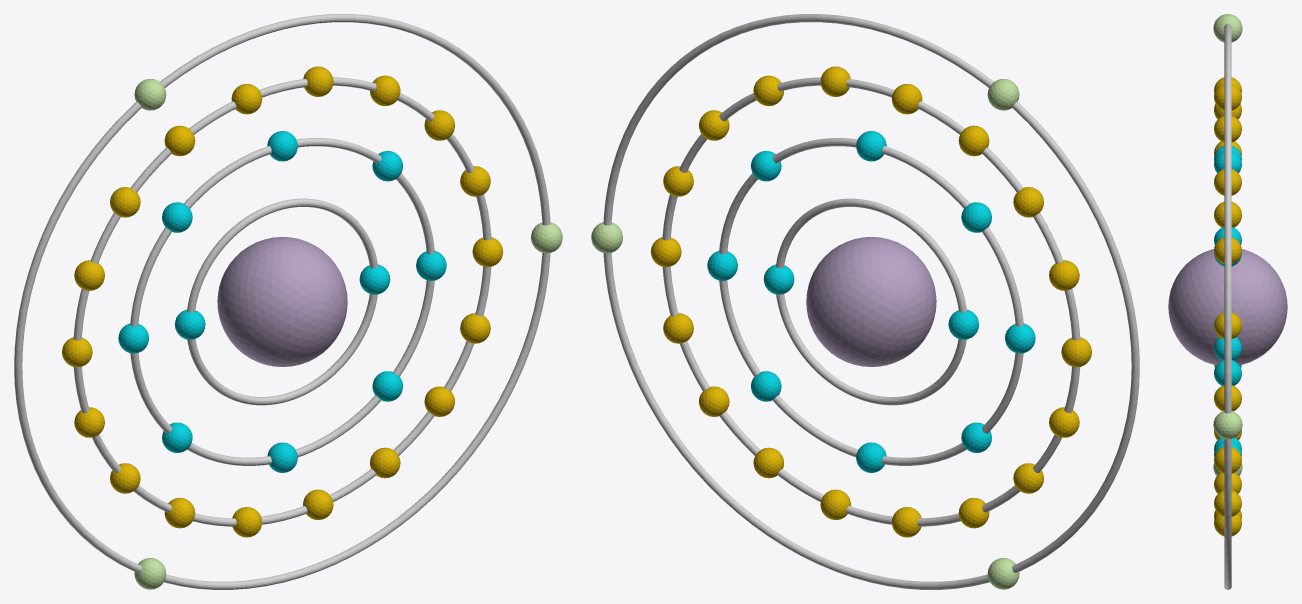
The picture shows the model from 3 angles, left to right: view 1: azimuth 30°, elevation 25°; view 2: azimuth 150°, elevation 25°; view 3: azimuth 270°, elevation 25°; orthographic projection. The views are drawn at different scales.
Visible parts, largest first — view 1: Camada_4, Nucleo_Ga, Camada_3, Camada_2, Camada_1, e4_2, e4_1, e4_3, e3_8, e2_4, e2_8, e3_17 (+24 smaller); view 2: Camada_4, Nucleo_Ga, Camada_3, Camada_2, Camada_1, e4_2, e4_1, e4_3, e3_8, e2_4, e2_8, e3_17 (+24 smaller); view 3: Nucleo_Ga, Camada_4, e4_1, e4_2, e3_4, e3_17, e3_1, e3_2, e3_3, e3_6, e3_18, e3_5 (+8 smaller).
Boxes of the visible parts, x1,y1,x2,y2 form: Camada_4: (14,14,550,589); Nucleo_Ga: (217,237,347,366); Camada_3: (73,77,491,526); Camada_2: (130,138,434,465); Camada_1: (187,198,377,405); e4_2: (134,79,166,110); e4_1: (531,222,562,253); e4_3: (134,558,166,589); e3_8: (110,187,140,217); e2_4: (162,202,192,232); e2_8: (372,371,402,401); e3_17: (424,386,454,416); Camada_4: (603,14,1139,589); Nucleo_Ga: (806,237,936,366); Camada_3: (662,77,1080,526); Camada_2: (719,138,1023,465); Camada_1: (776,198,966,405); e4_2: (987,79,1019,110); e4_1: (591,222,622,253); e4_3: (987,558,1019,589); e3_8: (1013,187,1043,217); e2_4: (961,202,991,232); e2_8: (751,371,781,401); e3_17: (699,386,729,416); Nucleo_Ga: (1168,249,1287,364); Camada_4: (1224,24,1231,589); e4_1: (1213,411,1242,439); e4_2: (1213,14,1242,42); e3_4: (1214,169,1241,195); e3_17: (1214,490,1241,516); e3_1: (1214,385,1241,411); e3_2: (1214,312,1241,338); e3_3: (1214,237,1241,263); e3_6: (1214,84,1241,110); e3_18: (1214,447,1241,473); e3_5: (1214,116,1241,142).
Size of the model in its own units: 2.13 by 2.09 by 0.44.
